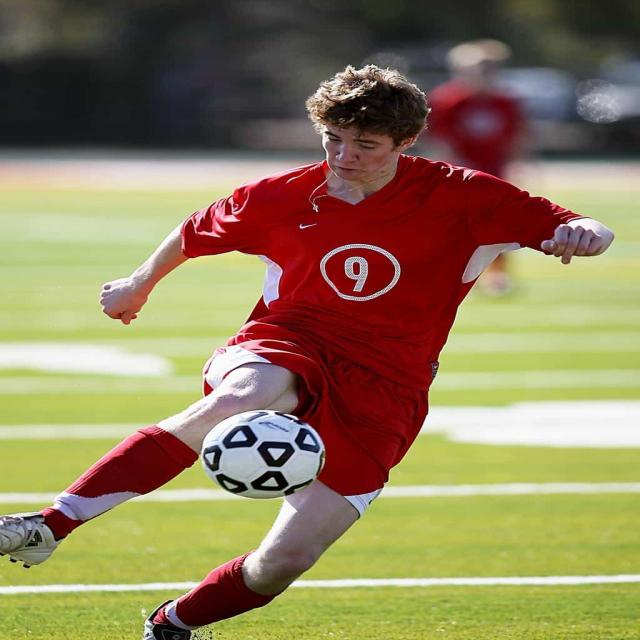soccer ball: (205, 409, 324, 502)
